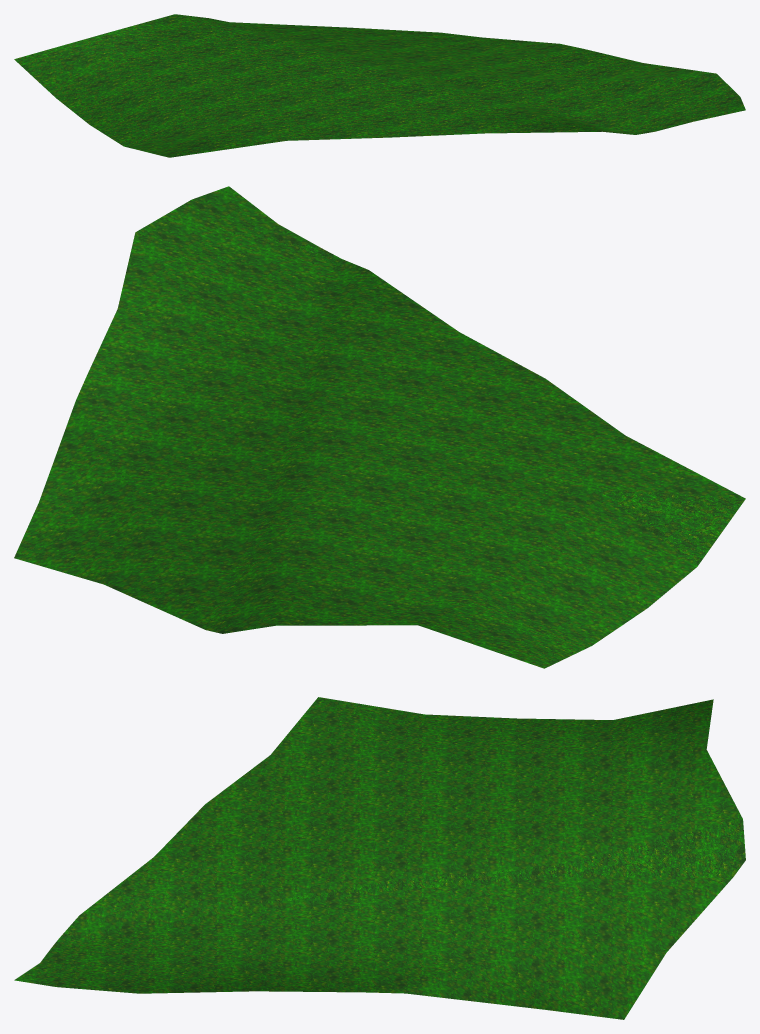
File: HTOWN01_PS23.fbx
The picture shows the model from 3 angles, top to bottom: view 1: azimuth 30°, elevation 25°; view 2: azimuth 150°, elevation 25°; view 3: azimuth 270°, elevation 25°; orthographic projection. The views are drawn at different scales.
Visible parts, largest first — view 1: HTOWN01_PS23; view 2: HTOWN01_PS23; view 3: HTOWN01_PS23.
Part boxes in pixels (x1,y1,x2,y2): HTOWN01_PS23: (14, 14, 745, 157); HTOWN01_PS23: (14, 186, 745, 668); HTOWN01_PS23: (14, 697, 745, 1019).
Size of the model in its own units: 232535 by 30871 by 222425.
Materials: 1 (1 with a texture image).
